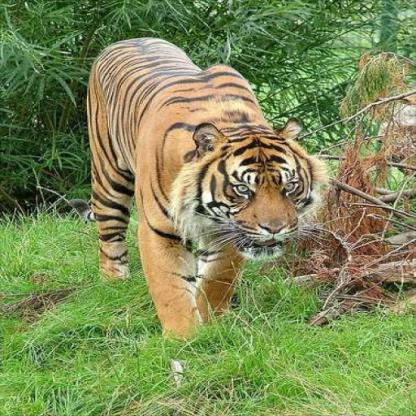Tiger: (68, 25, 337, 380)
